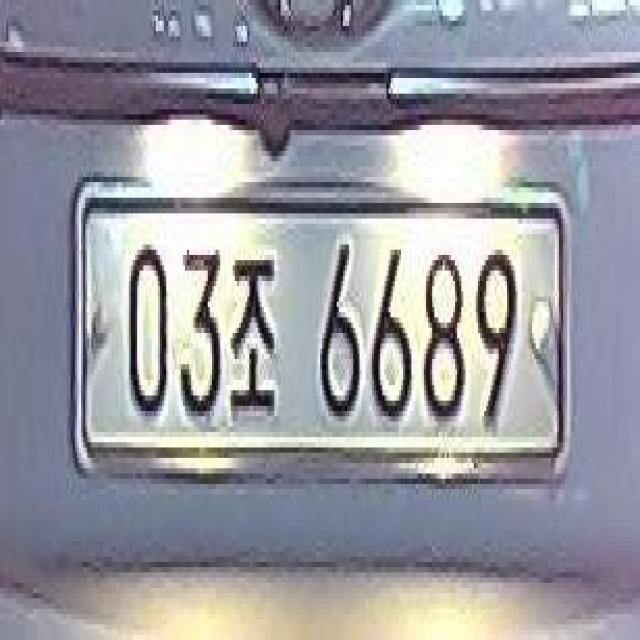illegal_plate: (70, 171, 561, 501)
